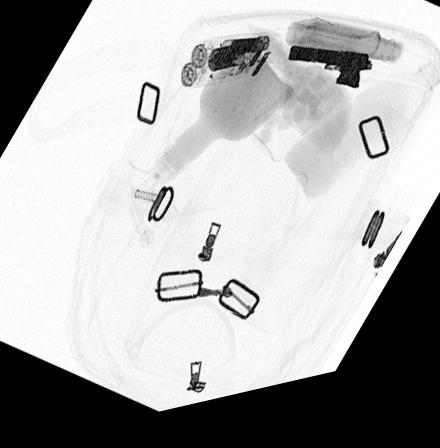Gun: (288, 57, 372, 104)
